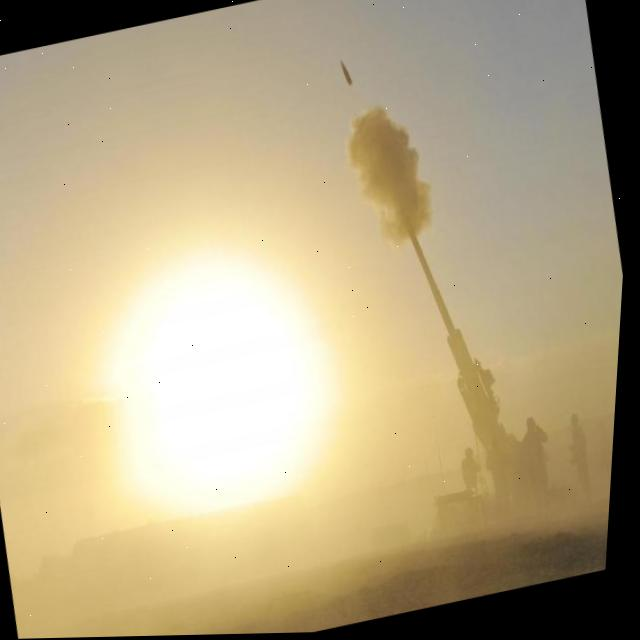missile: (336, 59, 367, 97)
